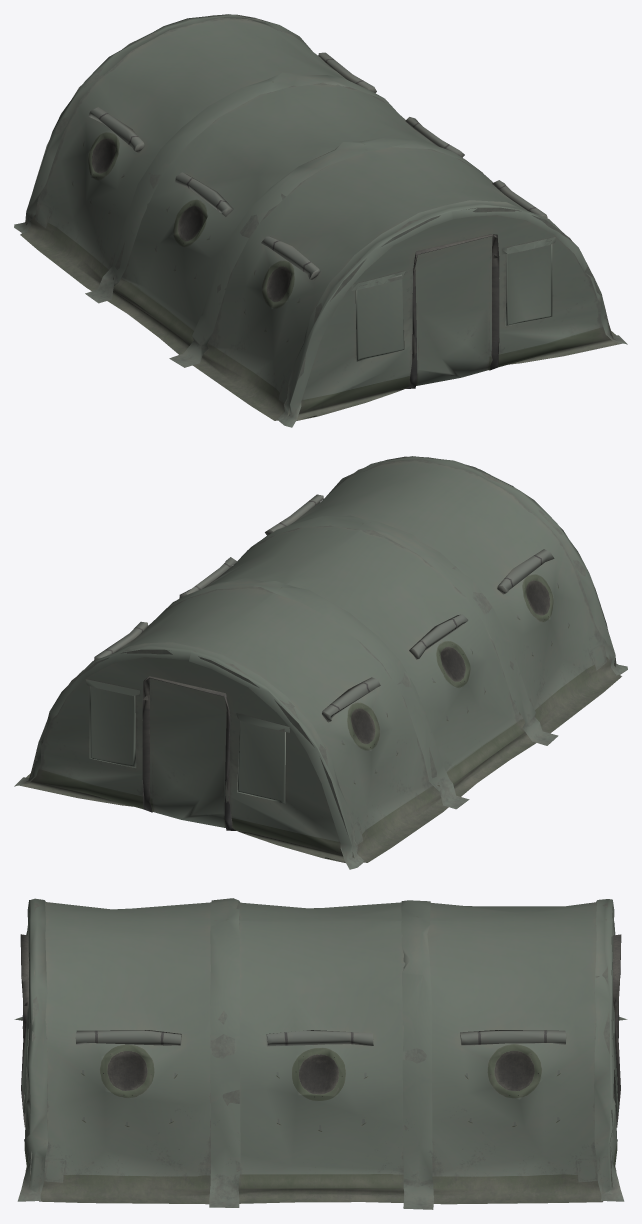
File: SM_Tent_05a.FBX
3 renders of one model, top to bottom at view 1: azimuth 30°, elevation 25°; view 2: azimuth 150°, elevation 25°; view 3: azimuth 270°, elevation 25°, orthographic. The views are drawn at different scales.
Visible parts, largest first — view 1: SM_Tent_05a; view 2: SM_Tent_05a; view 3: SM_Tent_05a.
Part boxes in pixels (bbox=[...]): SM_Tent_05a: bbox=[14, 14, 627, 427]; SM_Tent_05a: bbox=[14, 456, 627, 869]; SM_Tent_05a: bbox=[14, 898, 627, 1209].
Size of the model in its own units: 586 by 261 by 753.
